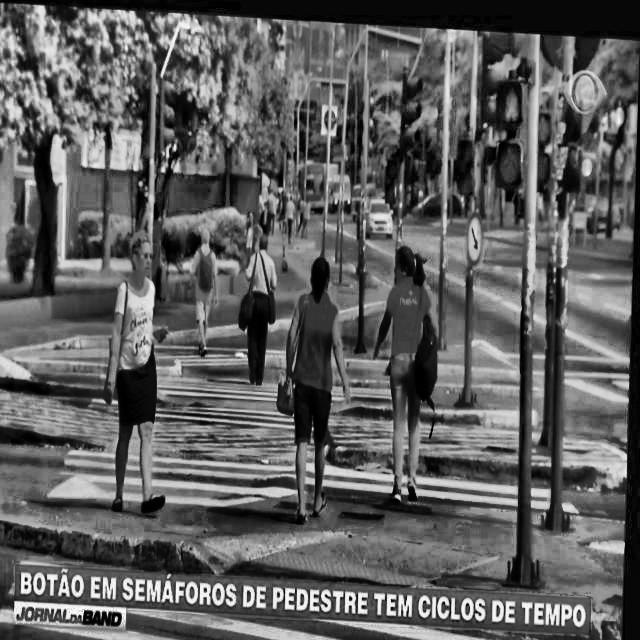faixa de pedestre: (58, 451, 561, 511)
